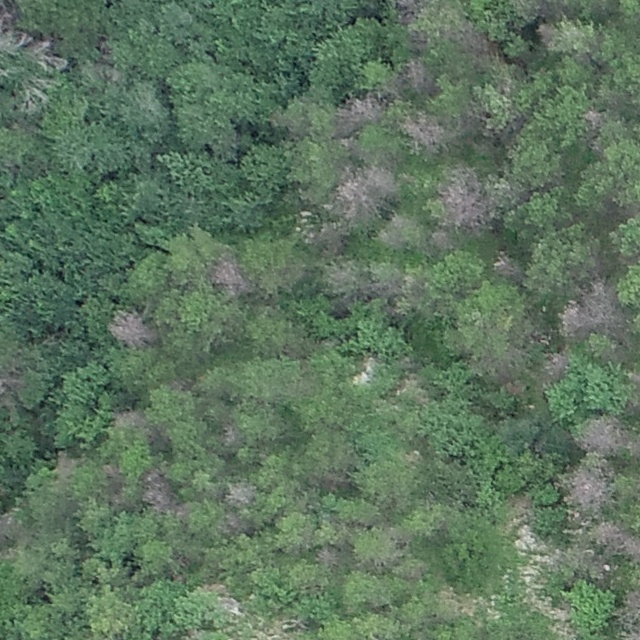unhealthy: (557, 277, 629, 345), (438, 165, 500, 231), (562, 455, 620, 509), (570, 412, 628, 456), (447, 25, 505, 63), (336, 91, 383, 137), (403, 110, 448, 155), (108, 307, 153, 348), (142, 467, 179, 512), (322, 261, 364, 298), (336, 176, 373, 217), (209, 259, 244, 298), (375, 216, 416, 249), (102, 461, 131, 507), (310, 224, 345, 259), (364, 164, 402, 196), (587, 518, 626, 546), (224, 481, 258, 509), (405, 58, 431, 93), (547, 347, 570, 384), (113, 408, 149, 431), (493, 254, 521, 280), (319, 469, 350, 492), (537, 22, 563, 49), (55, 451, 77, 482), (366, 279, 405, 296), (220, 509, 242, 536), (431, 229, 454, 251), (222, 422, 240, 449), (623, 535, 640, 562), (318, 548, 339, 568), (581, 110, 602, 128)
